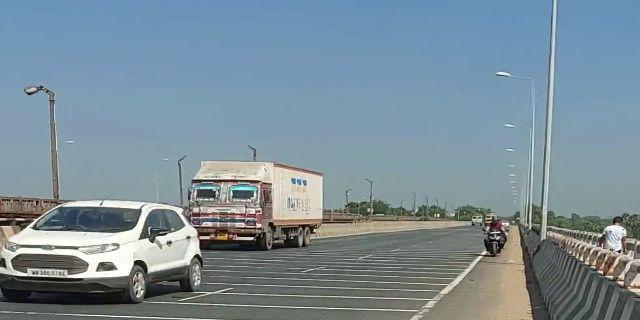Car: (1, 195, 204, 299)
Motorbike: (481, 211, 507, 263)
Truck: (188, 156, 325, 254)
